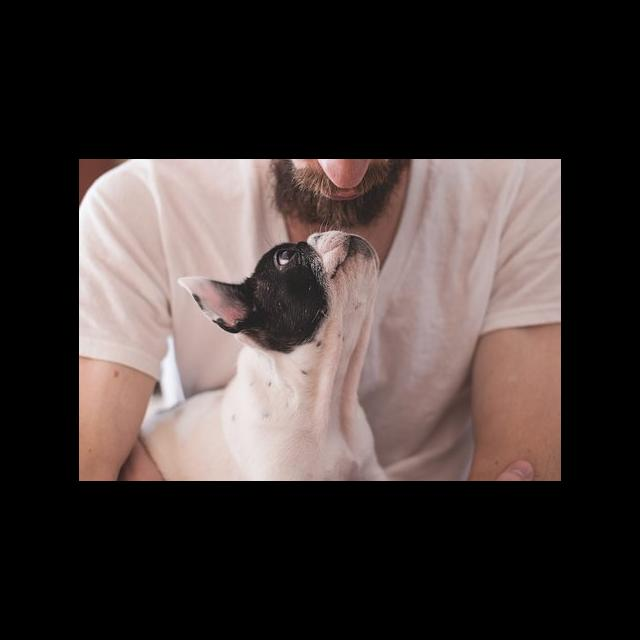male: (244, 159, 443, 237)
